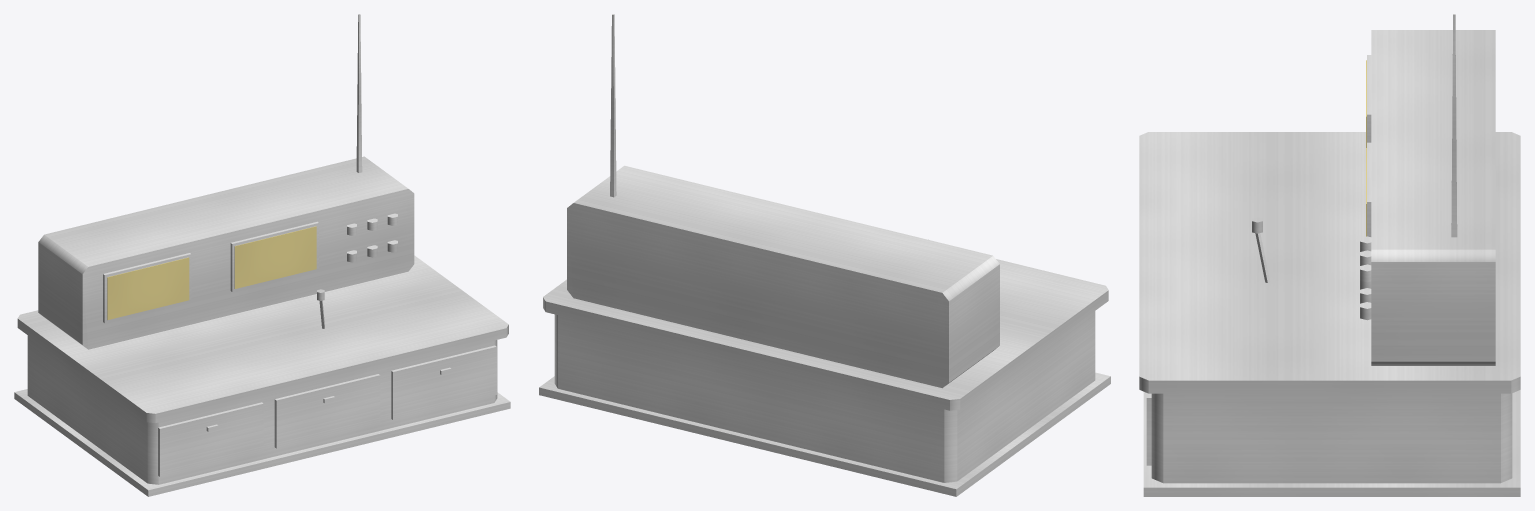
Rendered from comms_console.obj.
3 renders of one model, left to right at view 1: azimuth 30°, elevation 25°; view 2: azimuth 150°, elevation 25°; view 3: azimuth 270°, elevation 25°, orthographic. The views are drawn at different scales.
Parts seen in each view (by area): view 1: control_housing, worktop, cabinet, plinth, middle_door, left_door, right_door, right_screen, left_screen, right_screen_frame, left_screen_frame, antenna; view 2: control_housing, cabinet, worktop, plinth, antenna; view 3: worktop, control_housing, cabinet, plinth, antenna, right_screen_frame, left_screen_frame, right_door.
Part boxes in pixels (box(x1,y1,x2,y2)): control_housing: box(38, 156, 414, 349); worktop: box(17, 255, 508, 423); cabinet: box(27, 335, 497, 484); plinth: box(14, 389, 510, 496); middle_door: box(274, 374, 380, 448); left_door: box(158, 402, 263, 476); right_door: box(391, 345, 496, 419); right_screen: box(234, 226, 316, 288); left_screen: box(107, 257, 189, 319); right_screen_frame: box(230, 221, 318, 291); left_screen_frame: box(103, 253, 191, 323); antenna: box(356, 14, 362, 172); control_housing: box(567, 165, 999, 388); cabinet: box(554, 311, 1095, 482); worktop: box(543, 259, 1108, 410); plinth: box(539, 372, 1110, 496); antenna: box(610, 14, 616, 197); worktop: box(1139, 132, 1520, 393); control_housing: box(1371, 30, 1495, 365); cabinet: box(1151, 393, 1512, 483); plinth: box(1143, 390, 1520, 496); antenna: box(1451, 14, 1457, 237); right_screen_frame: box(1367, 142, 1371, 236); left_screen_frame: box(1367, 55, 1371, 142); right_door: box(1146, 393, 1151, 465).
Size of the model in its own units: 2.84 by 2.42 by 1.84.
